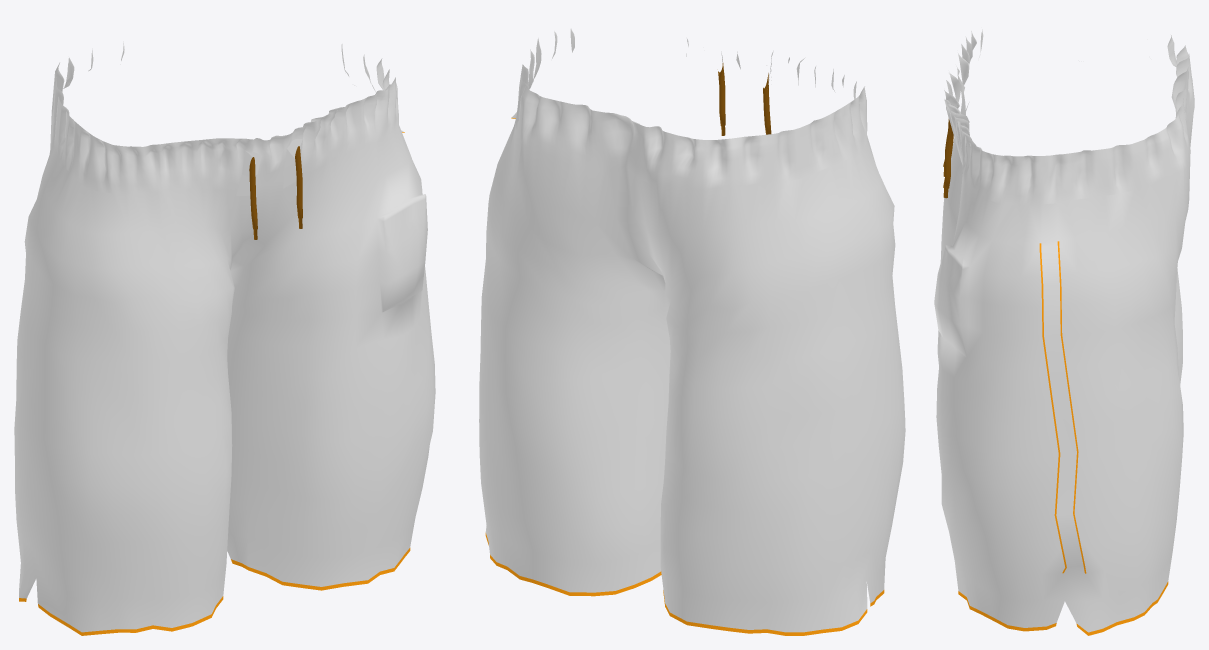
Rendered from Shorts.gltf.
3 renders of one model, left to right at view 1: azimuth 30°, elevation 25°; view 2: azimuth 150°, elevation 25°; view 3: azimuth 270°, elevation 25°, orthographic. The views are drawn at different scales.
Visible parts, largest first — view 1: AAA Pants edit; view 2: AAA Pants edit; view 3: AAA Pants edit.
Part boxes in pixels (x1=…): AAA Pants edit: x1=14, y1=41, x2=435, y2=635; AAA Pants edit: x1=479, y1=28, x2=905, y2=635; AAA Pants edit: x1=934, y1=29, x2=1194, y2=635.
Bounding box in the file's own units: 31.35 × 37.61 × 18.55.
